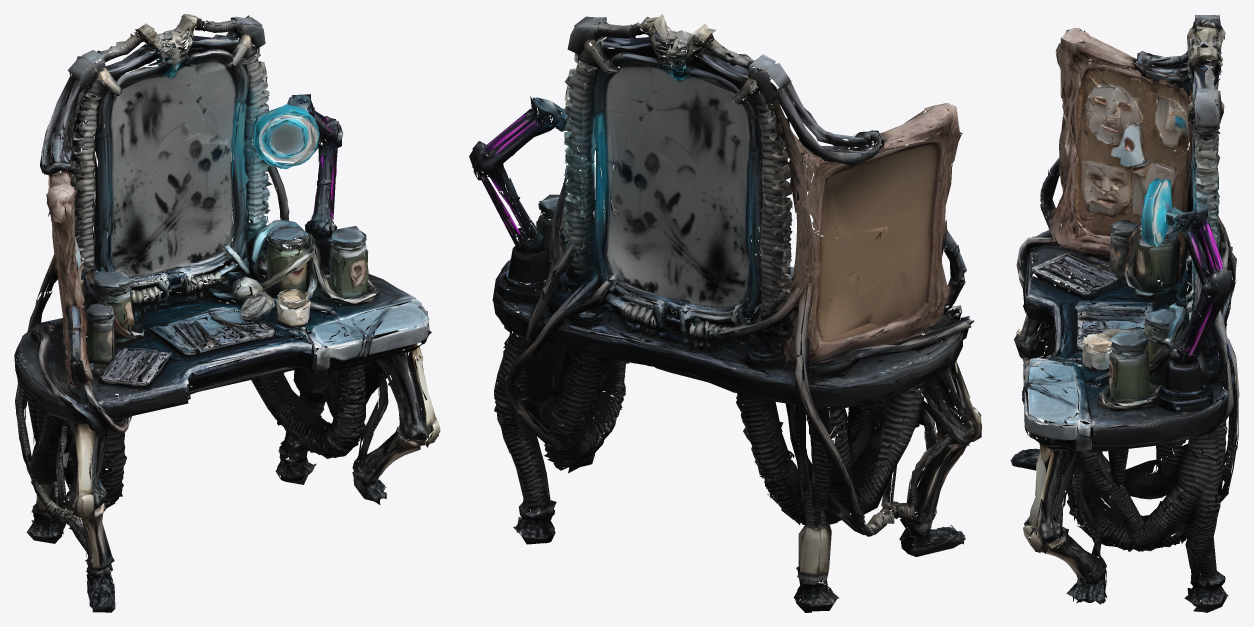
File: tina_mimic_vanity.glb
3 views of the same model, side by side, from view 1: azimuth 30°, elevation 25°; view 2: azimuth 150°, elevation 25°; view 3: azimuth 270°, elevation 25° (orthographic). The views are drawn at different scales.
Parts seen in each view (by area): view 1: node_0; view 2: node_0; view 3: node_0.
Part boxes in pixels (<box>): node_0: <box>14,14,440,612</box>; node_0: <box>469,14,981,612</box>; node_0: <box>1010,14,1239,612</box>.
Size of the model in its own units: 0.7656 by 0.9432 by 0.3846.
1 material, 1 textured.
